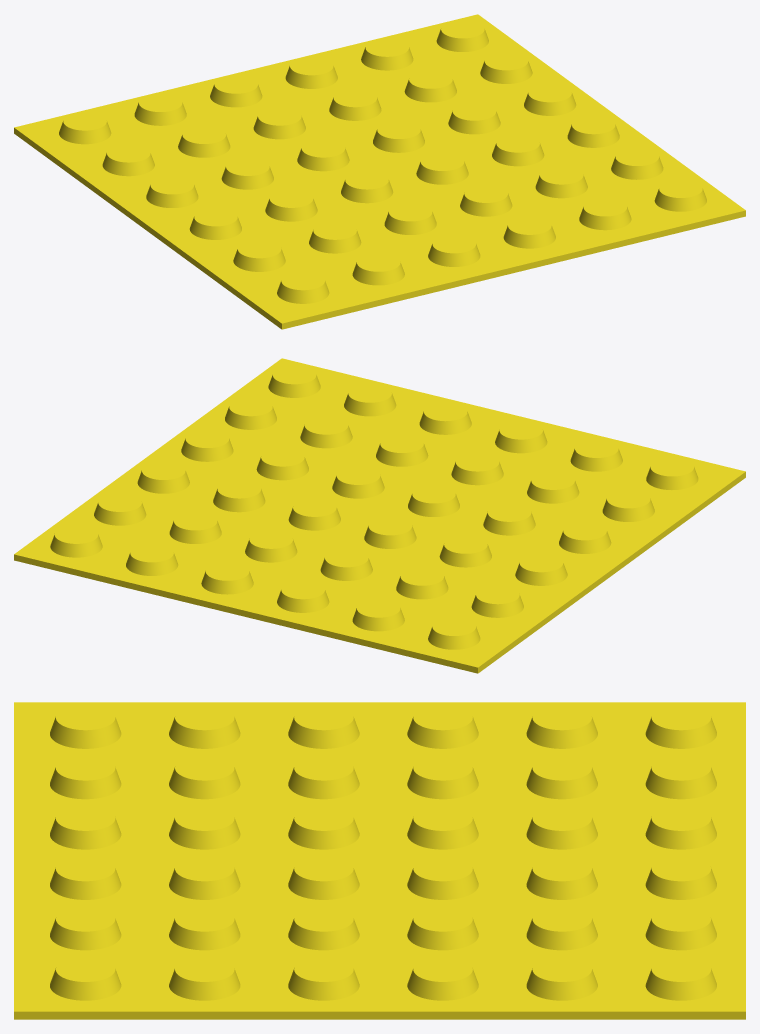
The model's file is yellowblock.fbx.
3 views of the same model, one above another, from view 1: azimuth 30°, elevation 25°; view 2: azimuth 150°, elevation 25°; view 3: azimuth 270°, elevation 25° (orthographic). The views are drawn at different scales.
Visible parts, largest first — view 1: 개체_37, 개체_4, 개체_14, 개체_21, 개체_35, 개체_2, 개체_8, 개체_20, 개체_23, 개체_29, 개체_12, 개체_32 (+25 smaller); view 2: 개체_37, 개체_20, 개체_8, 개체_28, 개체_22, 개체_36, 개체_3, 개체_5, 개체_26, 개체_30, 개체_2, 개체_11 (+25 smaller); view 3: 개체_37, 개체_14, 개체_20, 개체_9, 개체_23, 개체_11, 개체_17, 개체_27, 개체_29, 개체_8, 개체_26, 개체_5 (+25 smaller).
Part boxes in pixels (box(x1,y1,x2,y2)): 개체_37: box(14, 14, 745, 329); 개체_4: box(503, 216, 555, 248); 개체_14: box(265, 189, 317, 221); 개체_21: box(297, 139, 349, 171); 개체_35: box(361, 38, 413, 70); 개체_2: box(352, 253, 404, 285); 개체_8: box(309, 221, 361, 253); 개체_20: box(221, 157, 273, 189); 개체_23: box(448, 102, 500, 134); 개체_29: box(404, 70, 456, 102); 개체_12: box(611, 147, 663, 179); 개체_32: box(134, 93, 186, 125); 개체_37: box(14, 358, 745, 673); 개체_20: box(439, 535, 491, 567); 개체_8: box(527, 471, 579, 503); 개체_28: box(245, 530, 297, 562); 개체_22: box(288, 498, 340, 530); 개체_36: box(50, 525, 102, 557); 개체_3: box(495, 421, 547, 453); 개체_5: box(344, 384, 396, 416); 개체_26: box(396, 567, 448, 599); 개체_30: box(94, 493, 146, 525); 개체_2: box(570, 439, 622, 471); 개체_11: box(300, 416, 352, 448); 개체_37: box(14, 702, 745, 1019); 개체_14: box(288, 755, 359, 799); 개체_20: box(407, 755, 478, 799); 개체_9: box(169, 805, 240, 849); 개체_23: box(407, 906, 478, 950); 개체_11: box(169, 906, 240, 950); 개체_17: box(288, 906, 359, 950); 개체_27: box(526, 805, 597, 849); 개체_29: box(526, 906, 597, 950); 개체_8: box(169, 755, 240, 799); 개체_26: box(526, 755, 597, 799); 개체_5: box(50, 906, 121, 950).
Size of the model in its own units: 8 by 8 by 0.2953.
